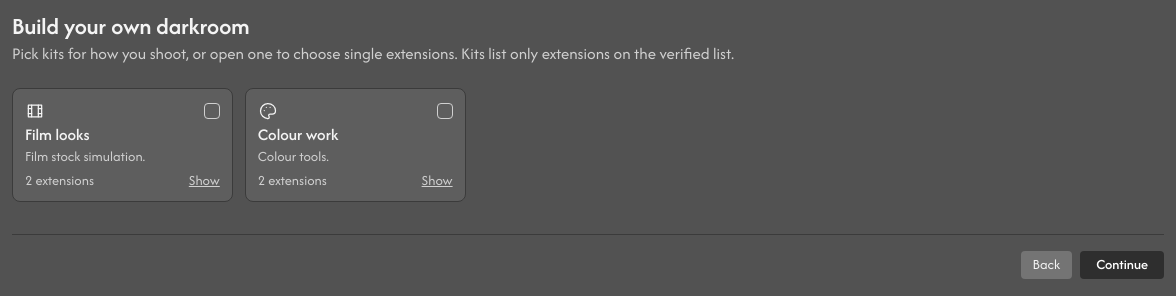
Scenario: KitsStep › counts an extension shared by two kits once
Click the checkbox labelled "Film looks" at (122, 133), box [25,101,220,165]
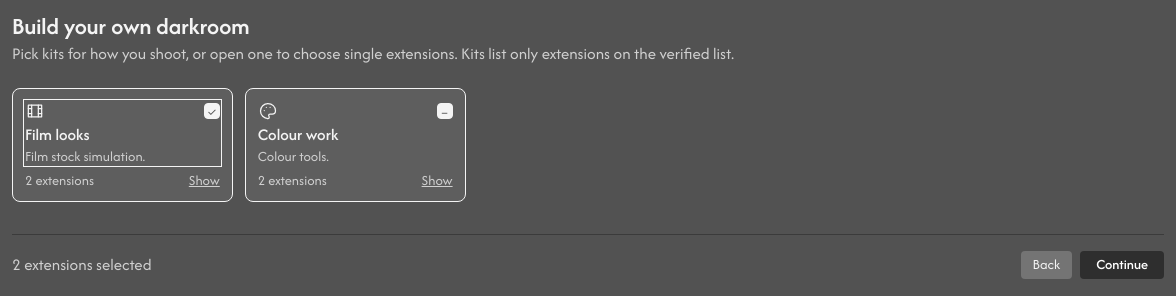
Click the checkbox labelled "Colour work" at (355, 133), box [258,101,453,165]
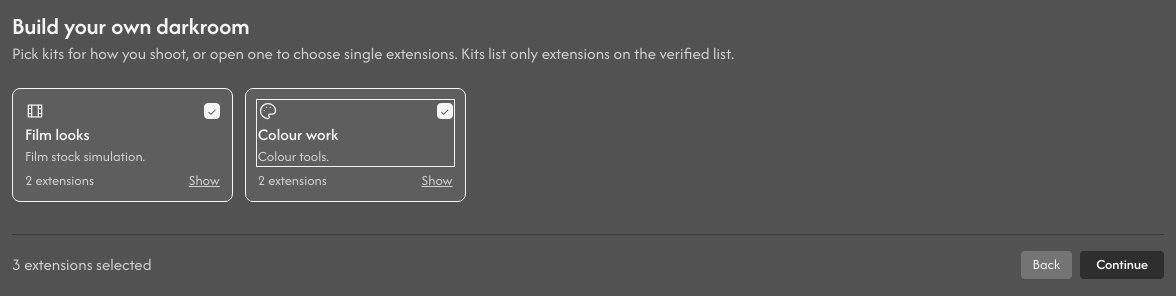
Result: the text "3 extensions selected" is shown at [12,255,152,275]
